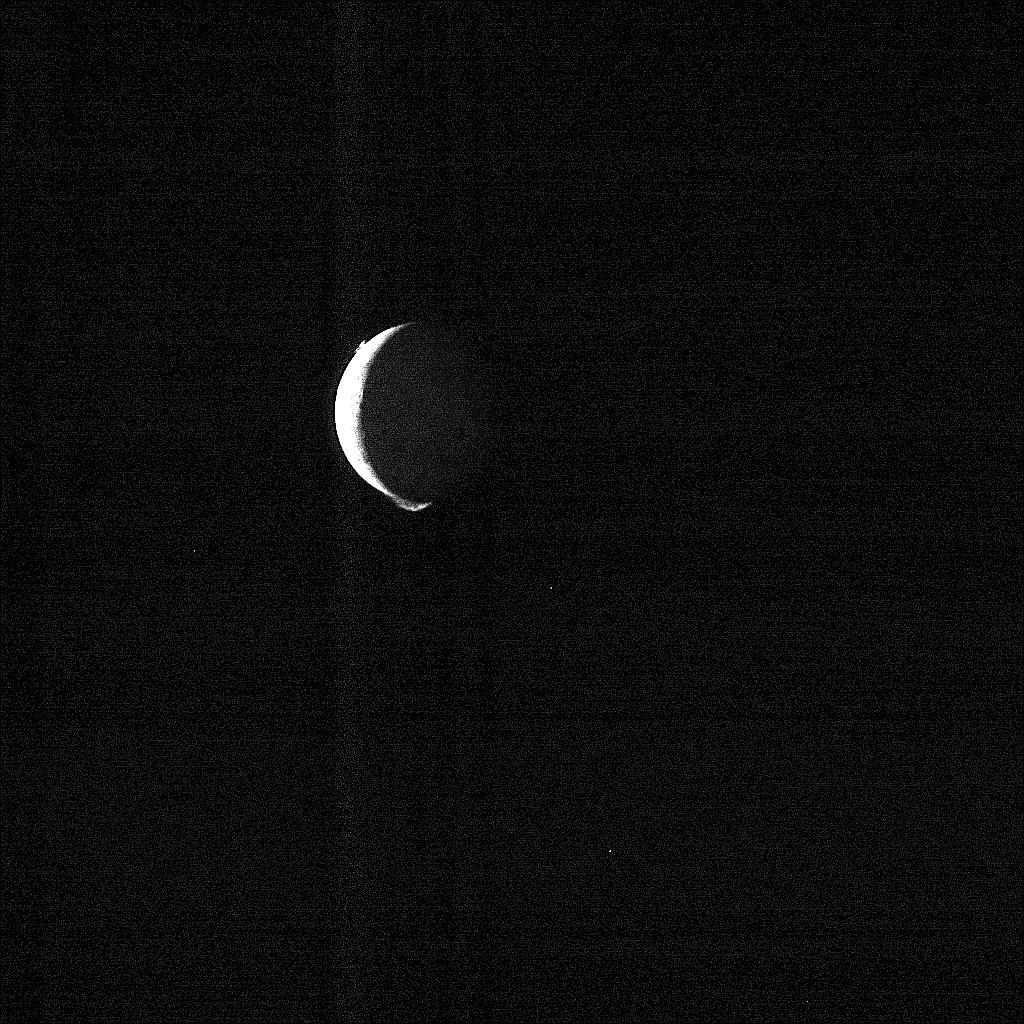plumes: (389, 495, 434, 512), (353, 339, 365, 353)
